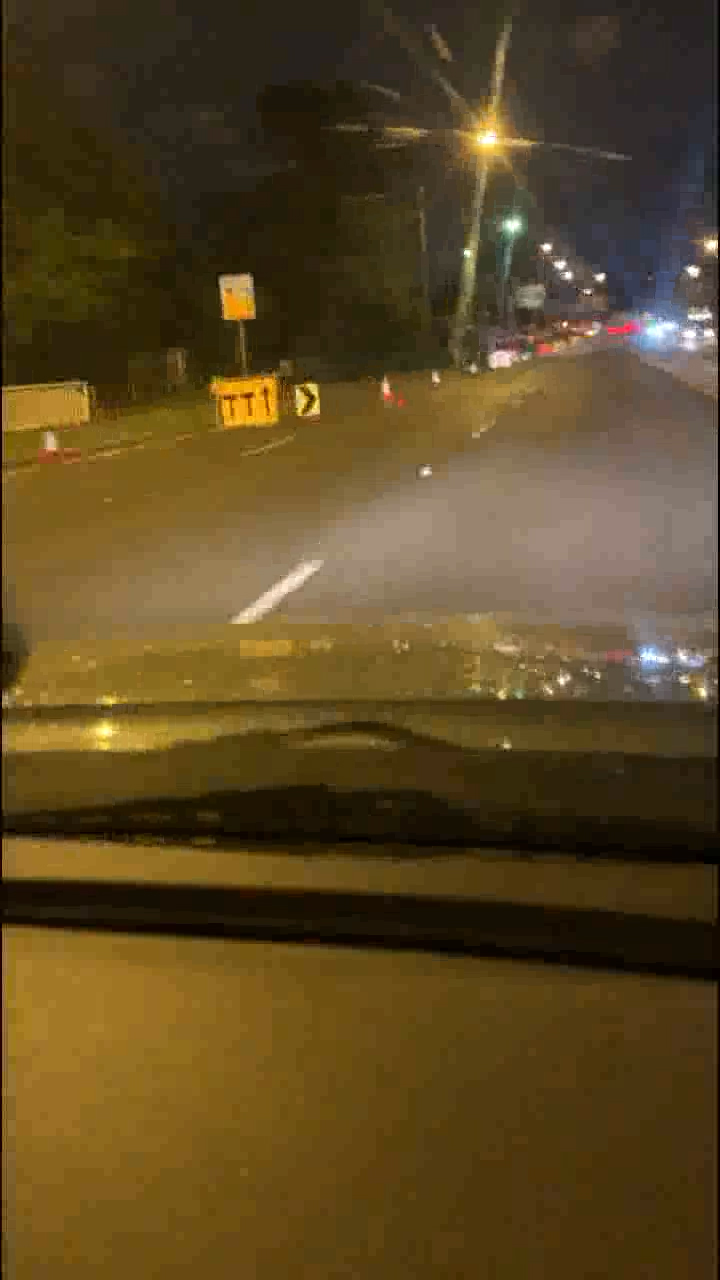road cone: (427, 365, 441, 386), (383, 375, 393, 400)
road works sign board: (214, 379, 279, 429), (295, 384, 329, 417)
